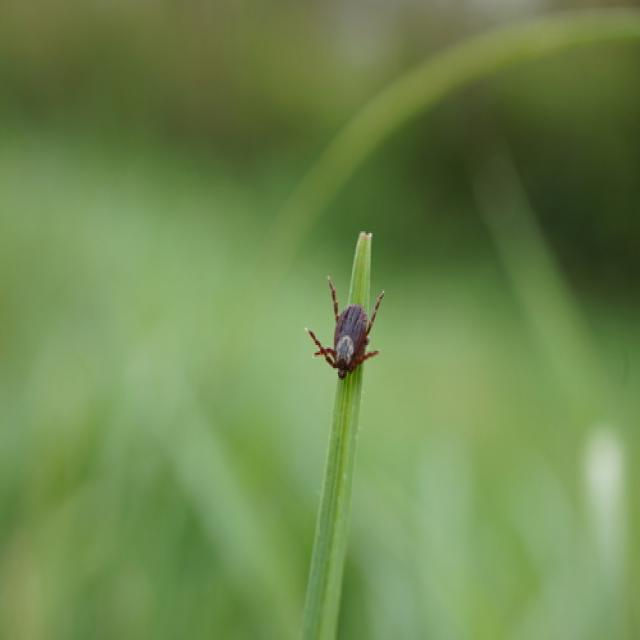Dermacentor Reticulatus-M: (305, 276, 385, 382)
